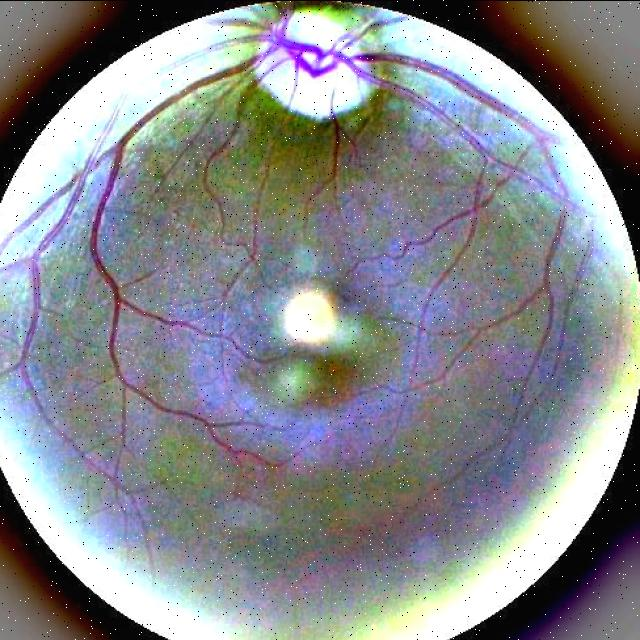Macula: (273, 353, 353, 404)
Nerves: (0, 0, 567, 413)
Optic Disk: (254, 8, 379, 119)
